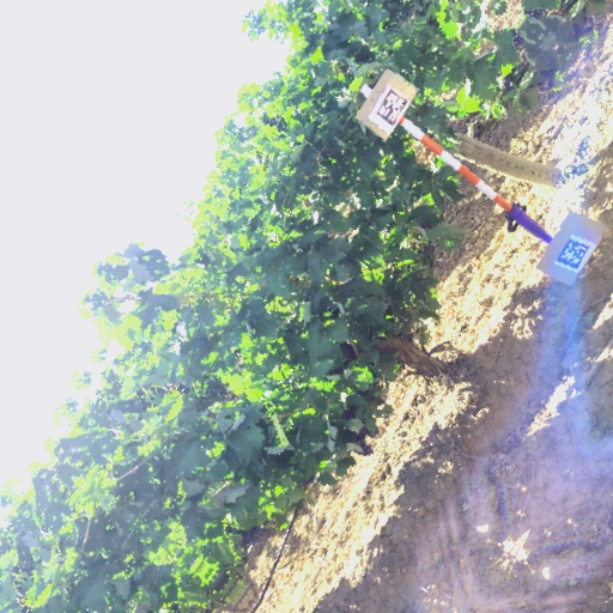QR: (553, 232, 594, 275), (372, 87, 411, 128)
